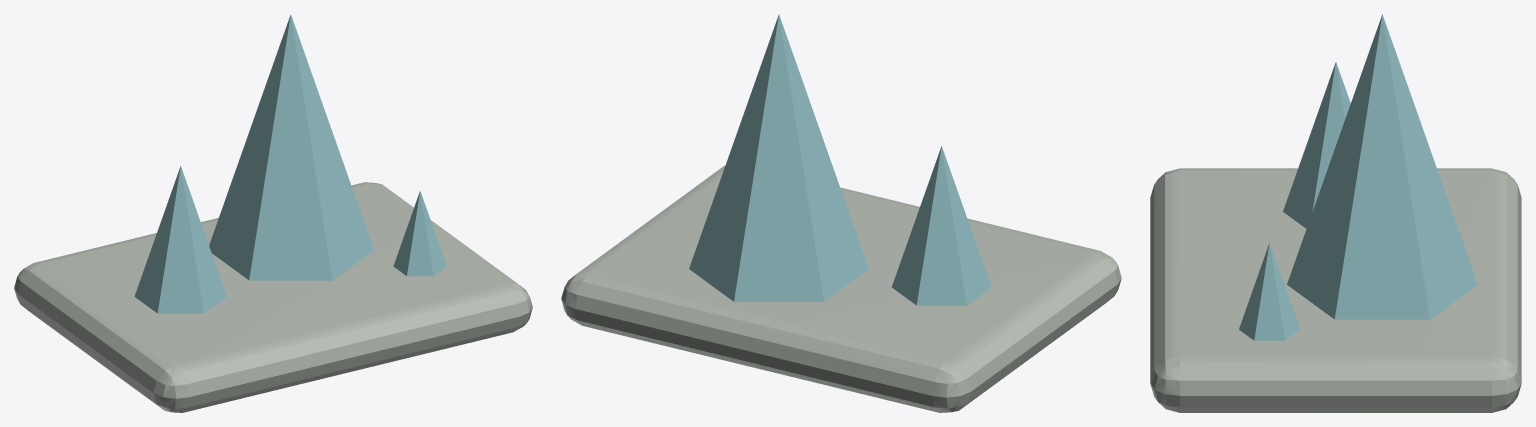
File: crystal_spire.glb
3 renders of one model, left to right at view 1: azimuth 30°, elevation 25°; view 2: azimuth 150°, elevation 25°; view 3: azimuth 270°, elevation 25°, orthographic. The views are drawn at different scales.
Parts seen in each view (by area): view 1: Surface_WorldStone, Surface_WorldGlass; view 2: Surface_WorldStone, Surface_WorldGlass; view 3: Surface_WorldStone, Surface_WorldGlass.
Part boxes in pixels (box(x1,y1,x2,y2)): Surface_WorldStone: box(14, 182, 532, 412); Surface_WorldGlass: box(134, 14, 446, 313); Surface_WorldStone: box(561, 166, 1121, 412); Surface_WorldGlass: box(689, 14, 991, 305); Surface_WorldStone: box(1150, 168, 1521, 412); Surface_WorldGlass: box(1239, 14, 1477, 340).
Bounding box in the file's own units: 1.5 × 1.08 × 1.12.
